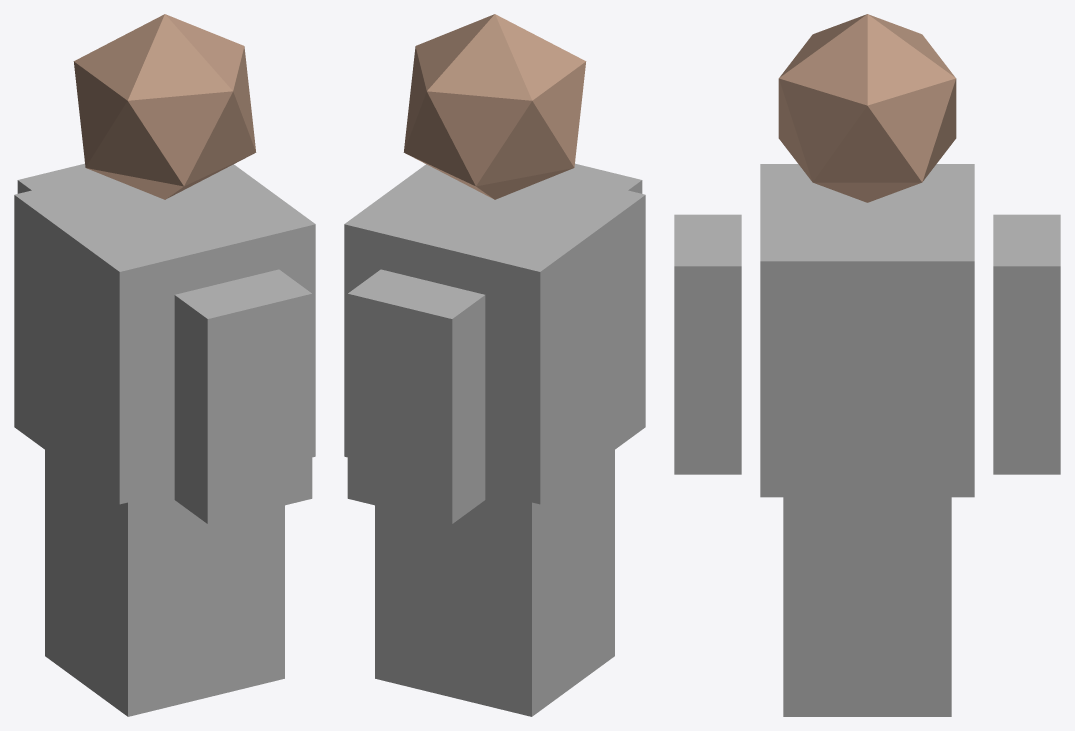
Rendered from person.glb.
3 views of the same model, side by side, from view 1: azimuth 30°, elevation 25°; view 2: azimuth 150°, elevation 25°; view 3: azimuth 270°, elevation 25° (orthographic).
Visible parts, largest first — view 1: person; view 2: person; view 3: person.
Part boxes in pixels (x1=…): person: x1=14, y1=14, x2=315, y2=716; person: x1=344, y1=14, x2=645, y2=716; person: x1=674, y1=14, x2=1060, y2=716.
Size of the model in its own units: 0.075 by 0.239 by 0.126.
